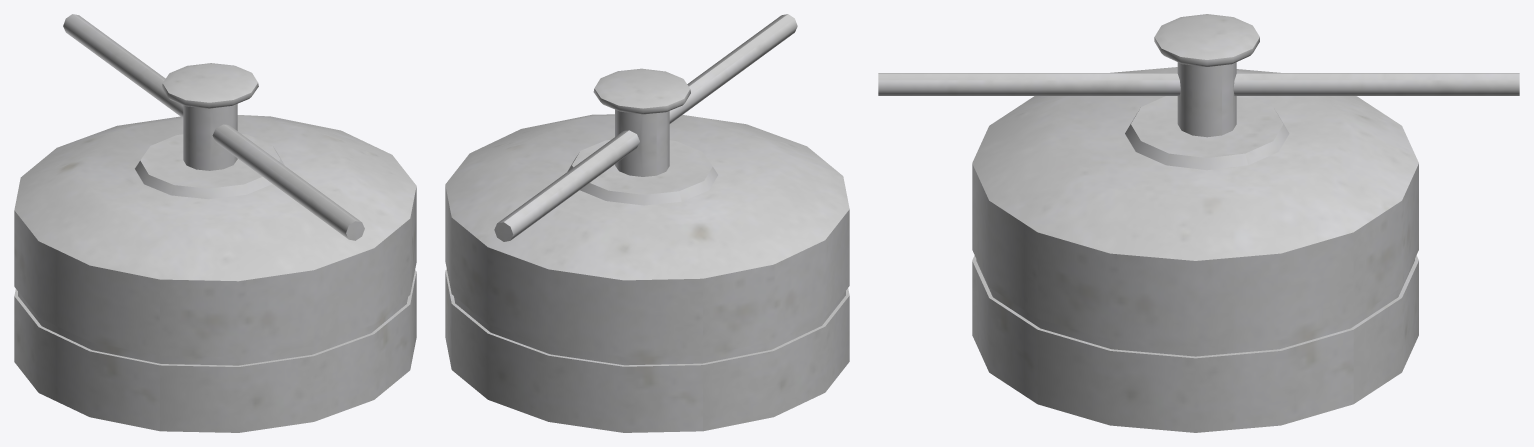
The model's file is SM_反应釜盖.fbx.
3 views of the same model, side by side, from view 1: azimuth 30°, elevation 25°; view 2: azimuth 150°, elevation 25°; view 3: azimuth 270°, elevation 25° (orthographic). The views are drawn at different scales.
Visible parts, largest first — view 1: SM_反应釜盖; view 2: SM_反应釜盖; view 3: SM_反应釜盖.
Part boxes in pixels (<box>): SM_反应釜盖: <box>14,14,416,432</box>; SM_反应釜盖: <box>445,14,849,432</box>; SM_反应釜盖: <box>878,14,1519,432</box>.
Size of the model in its own units: 0.1011 by 0.0725 by 0.14.
